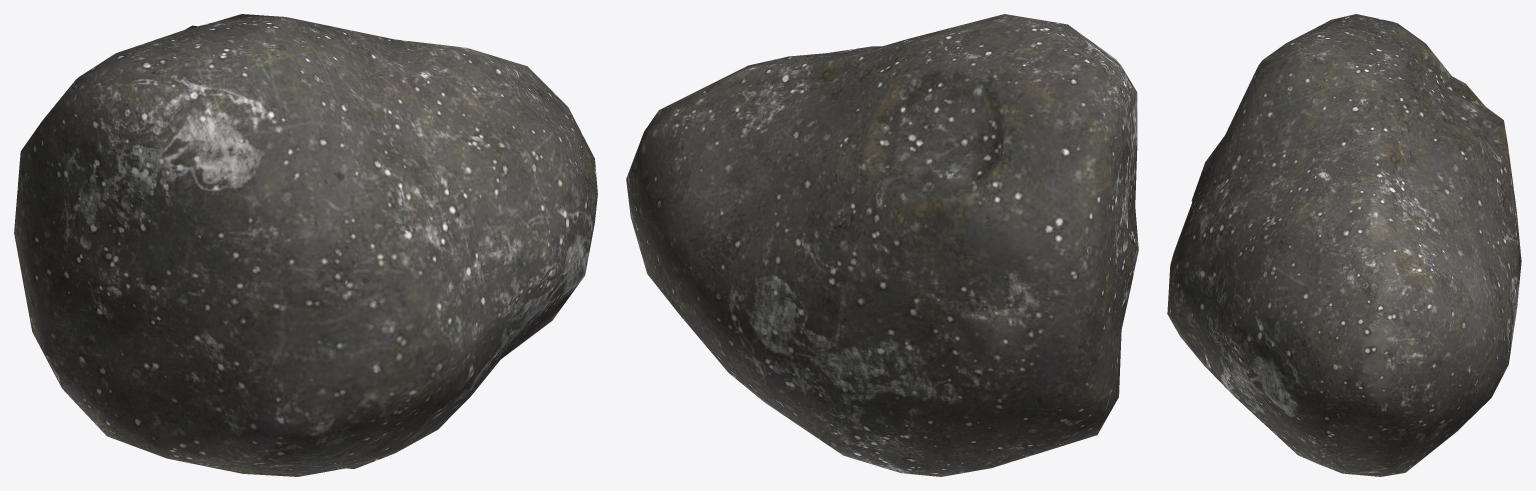
File: asteroid_hd.glb
The picture shows the model from 3 angles, left to right: view 1: azimuth 30°, elevation 25°; view 2: azimuth 150°, elevation 25°; view 3: azimuth 270°, elevation 25°; orthographic projection. The views are drawn at different scales.
Parts seen in each view (by area): view 1: Daphne_LP.001; view 2: Daphne_LP.001; view 3: Daphne_LP.001.
Boxes of the visible parts, box(x1,y1,x2,y2) form: Daphne_LP.001: box(14, 14, 597, 476); Daphne_LP.001: box(626, 14, 1138, 476); Daphne_LP.001: box(1167, 14, 1521, 476).
Size of the model in its own units: 29.22 by 24.63 by 20.9.
1 material, 1 textured.
